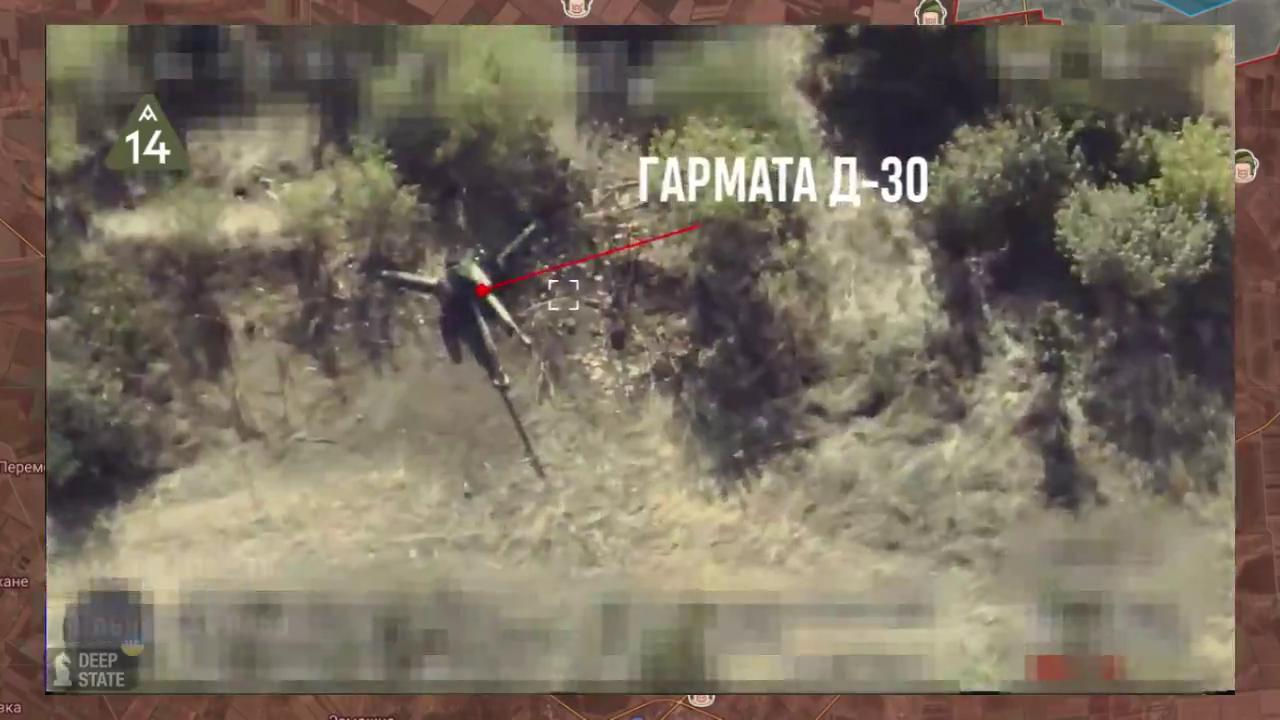tank: (347, 172, 564, 401)
